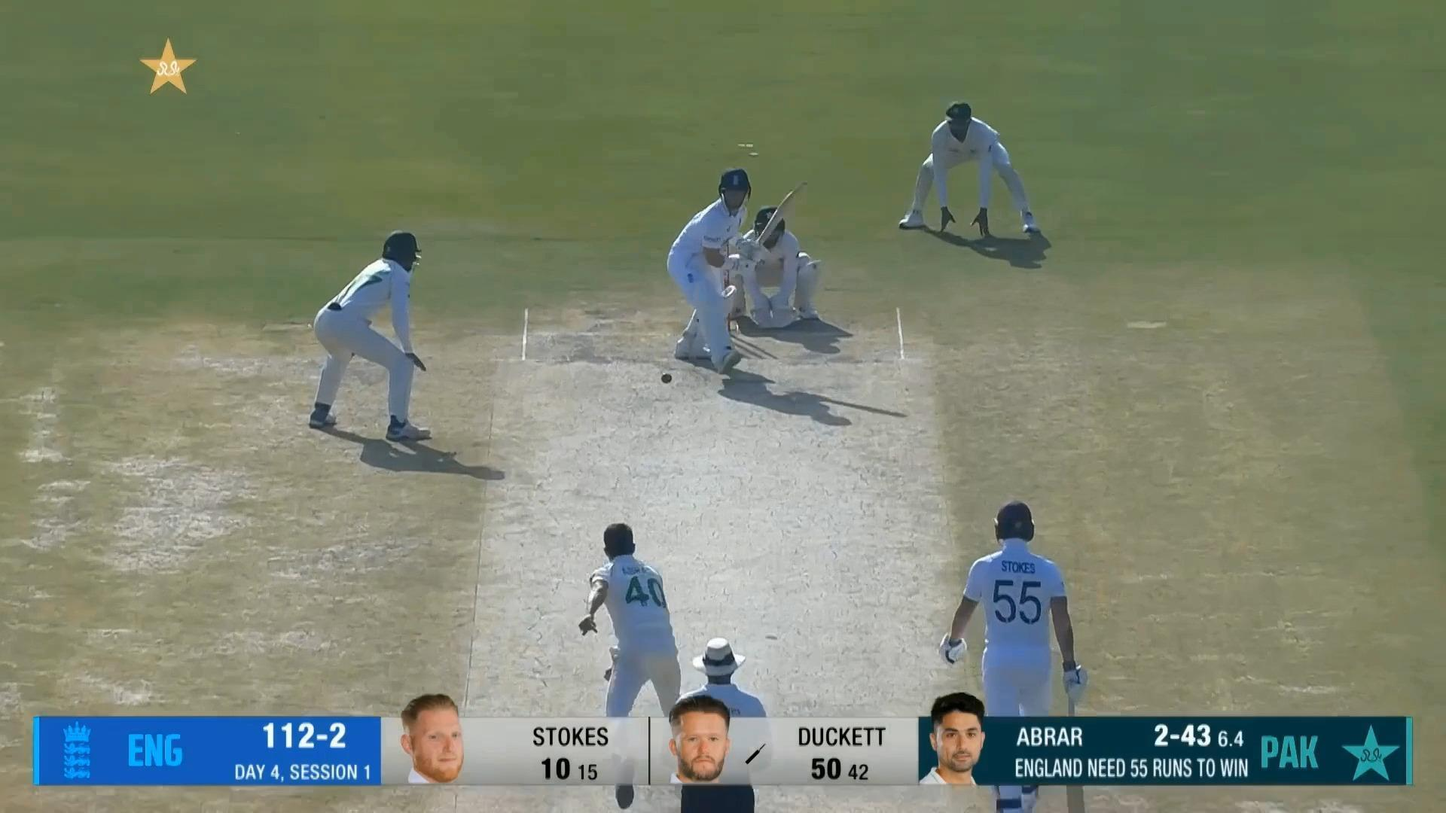BM 1: (666, 166, 808, 374)
BO: (572, 516, 716, 813)
